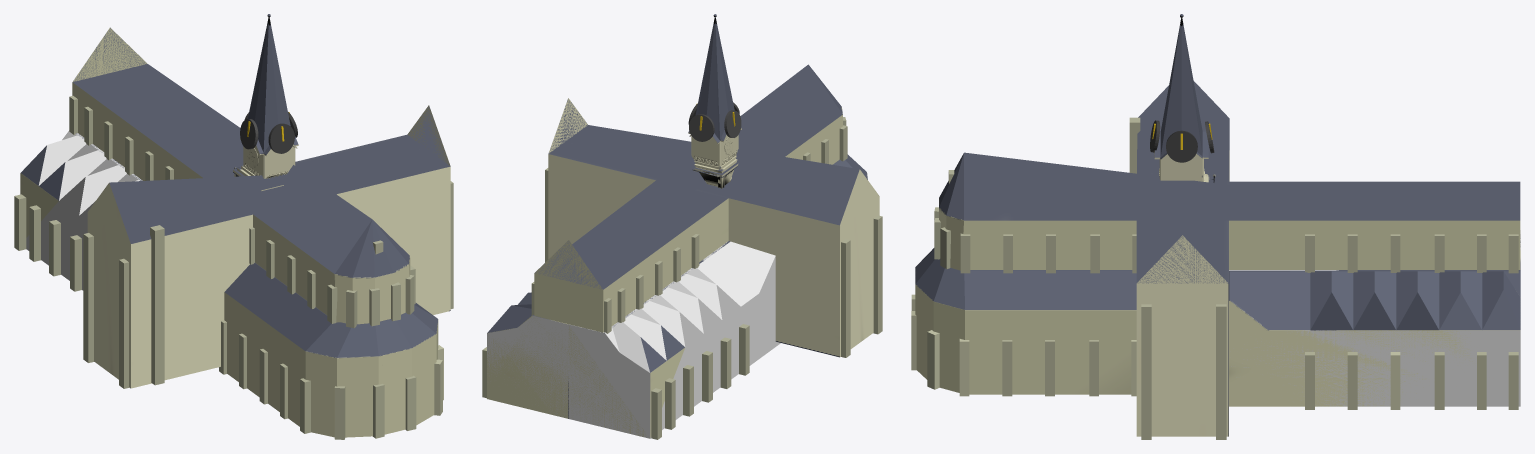
The model's file is church_1.fbx.
3 views of the same model, side by side, from view 1: azimuth 30°, elevation 25°; view 2: azimuth 150°, elevation 25°; view 3: azimuth 270°, elevation 25° (orthographic). The views are drawn at different scales.
Parts seen in each view (by area): view 1: Cube.003, Cube.002, Cube.001, Cube, Church, Cube.007, Cube.005, Cube.008, Cube.006, Cube.011, Cube.012, Cube.013 (+13 smaller); view 2: Cube.003, Cube, Cube.002, Cube.004, Church, Cube.005, Cube.006, Cube.008, Cube.016, Cylinder.001, Cube.012, Cube.011 (+4 smaller); view 3: Cube.002, Cube.004, Cube.001, Cube.003, Cube, Church, Cube.009, Cube.010, Cylinder, Cube.061, Cube.017, Cube.019 (+6 smaller).
Boxes of the visible parts, box(x1,y1,x2,y2) form: Cube.003: box(87, 105, 450, 388); Cube.002: box(72, 27, 410, 324); Cube.001: box(224, 263, 438, 437); Cube: box(26, 130, 142, 290); Church: box(233, 14, 298, 190); Cube.007: box(150, 225, 164, 385); Cube.005: box(20, 133, 142, 237); Cube.008: box(83, 233, 93, 362); Cube.006: box(119, 258, 128, 388); Cube.011: box(14, 194, 26, 250); Cube.012: box(29, 205, 40, 261); Cube.013: box(70, 235, 81, 291); Cube.003: box(548, 98, 879, 357); Cube: box(487, 241, 780, 438); Cube.002: box(534, 64, 843, 332); Cube.004: box(487, 292, 568, 418); Church: box(688, 14, 741, 188); Cube.005: box(568, 241, 730, 438); Cube.006: box(873, 215, 882, 334); Cube.008: box(841, 239, 850, 357); Cube.016: box(720, 337, 731, 388); Cylinder.001: box(689, 114, 714, 141); Cube.012: box(665, 378, 675, 429); Cube.011: box(651, 388, 661, 439); Cube.002: box(939, 152, 1520, 270); Cube.004: box(1229, 251, 1520, 406); Cube.001: box(915, 248, 1136, 394); Cube.003: box(1136, 81, 1229, 436); Cube: box(1229, 230, 1520, 406); Church: box(1151, 14, 1215, 183); Cube.009: box(1216, 304, 1226, 439); Cube.010: box(1141, 304, 1151, 439); Cylinder: box(1166, 130, 1197, 162); Cube.061: box(927, 330, 939, 389); Cube.017: box(1347, 352, 1357, 409); Cube.019: box(1434, 352, 1444, 409).
Bounding box in the file's own units: 465 × 440 × 702.
Materials: 19 (6 with a texture image).
